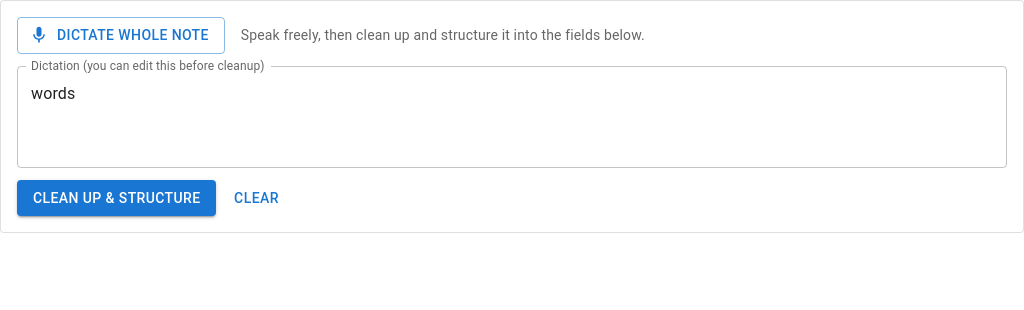
Test: DictateNoteBar › a failed cleanup keeps the dictation and says what happened
Expected: the button "Dictate whole note" is shown, [17,17,225,54]
Click the button "Clean up & structure".
click(117, 198)  # box [17,180,216,216]
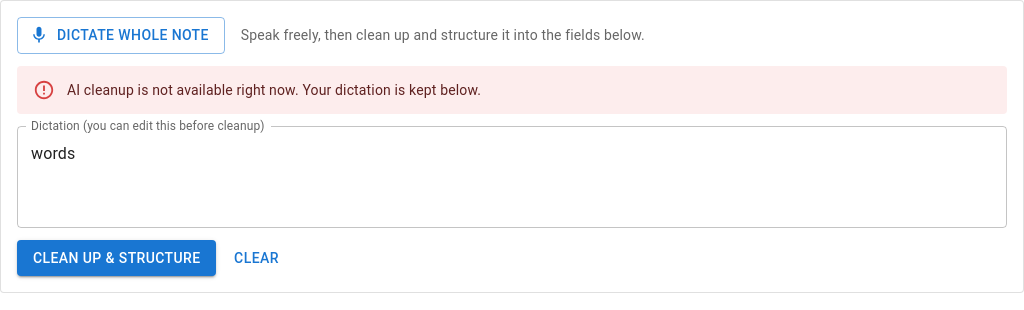
Expected: the text box labelled "Dictation (you can edit this before cleanup)" holds "words", [31,142,993,211]
Expected: the text "AI cleanup is not available right now" is shown, [67,82,481,98]
